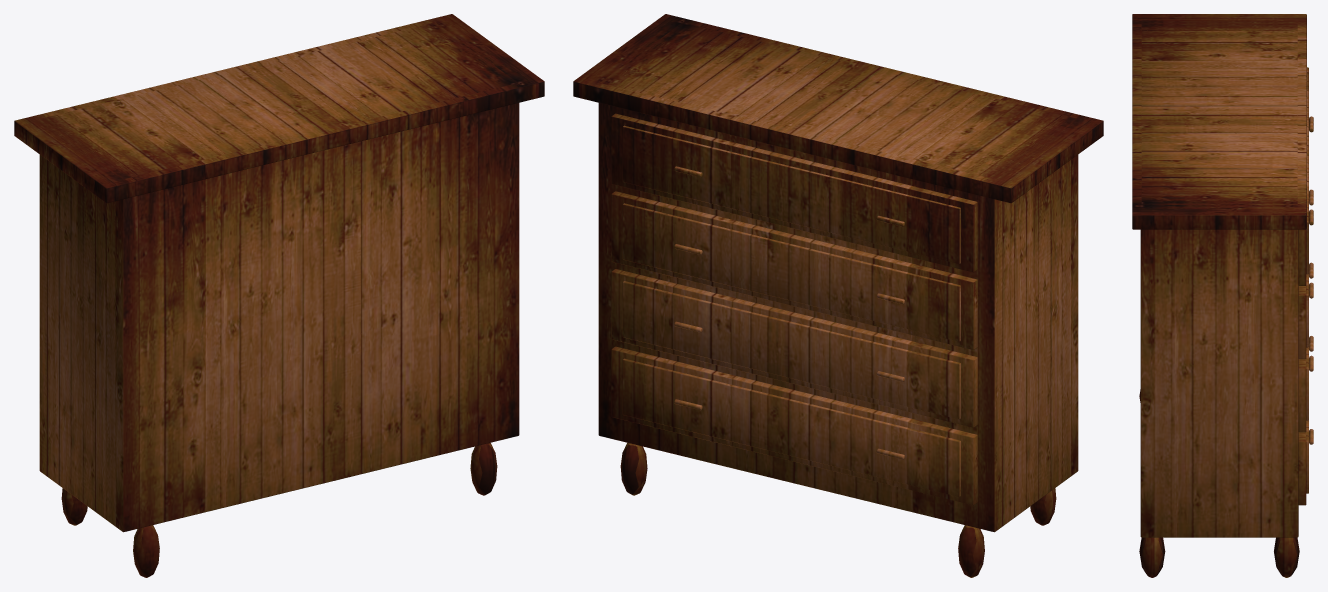
The model's file is Antique_Chest_06.fbx.
3 renders of one model, left to right at view 1: azimuth 30°, elevation 25°; view 2: azimuth 150°, elevation 25°; view 3: azimuth 270°, elevation 25°, orthographic. The views are drawn at different scales.
Parts seen in each view (by area): view 1: Antique_Chest; view 2: Antique_Chest; view 3: Antique_Chest.
Part boxes in pixels (x1,y1,x2,y2): Antique_Chest: (14,14,544,577); Antique_Chest: (573,14,1103,577); Antique_Chest: (1132,14,1313,577).
Bounding box in the file's own units: 1.48 × 1.32 × 0.5621.
1 material, 1 textured.
